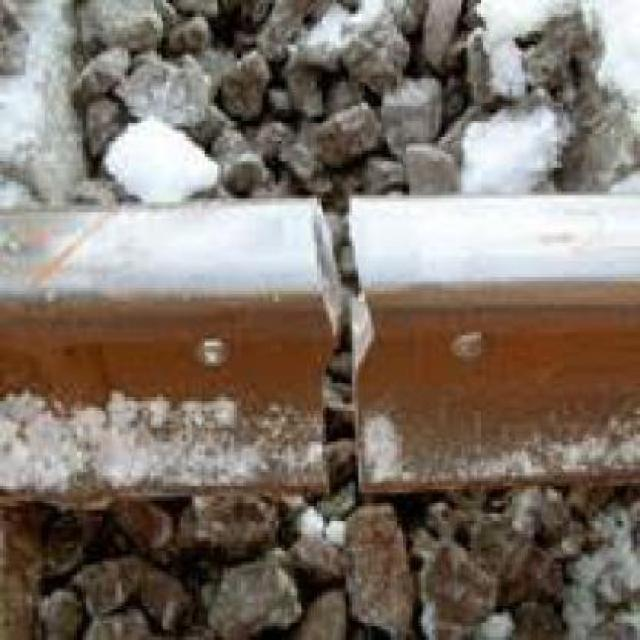defective: (161, 170, 514, 544)
